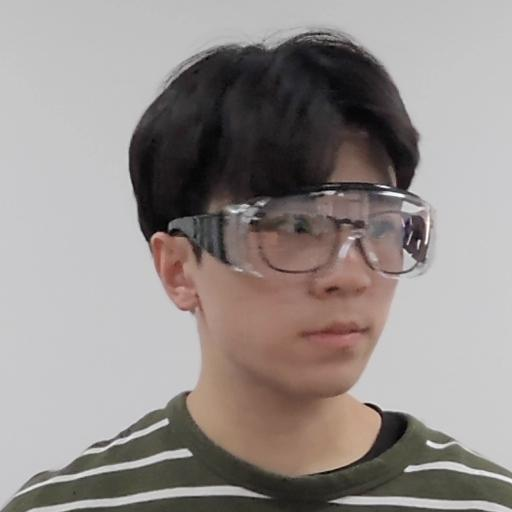glasses: (112, 26, 447, 385)
